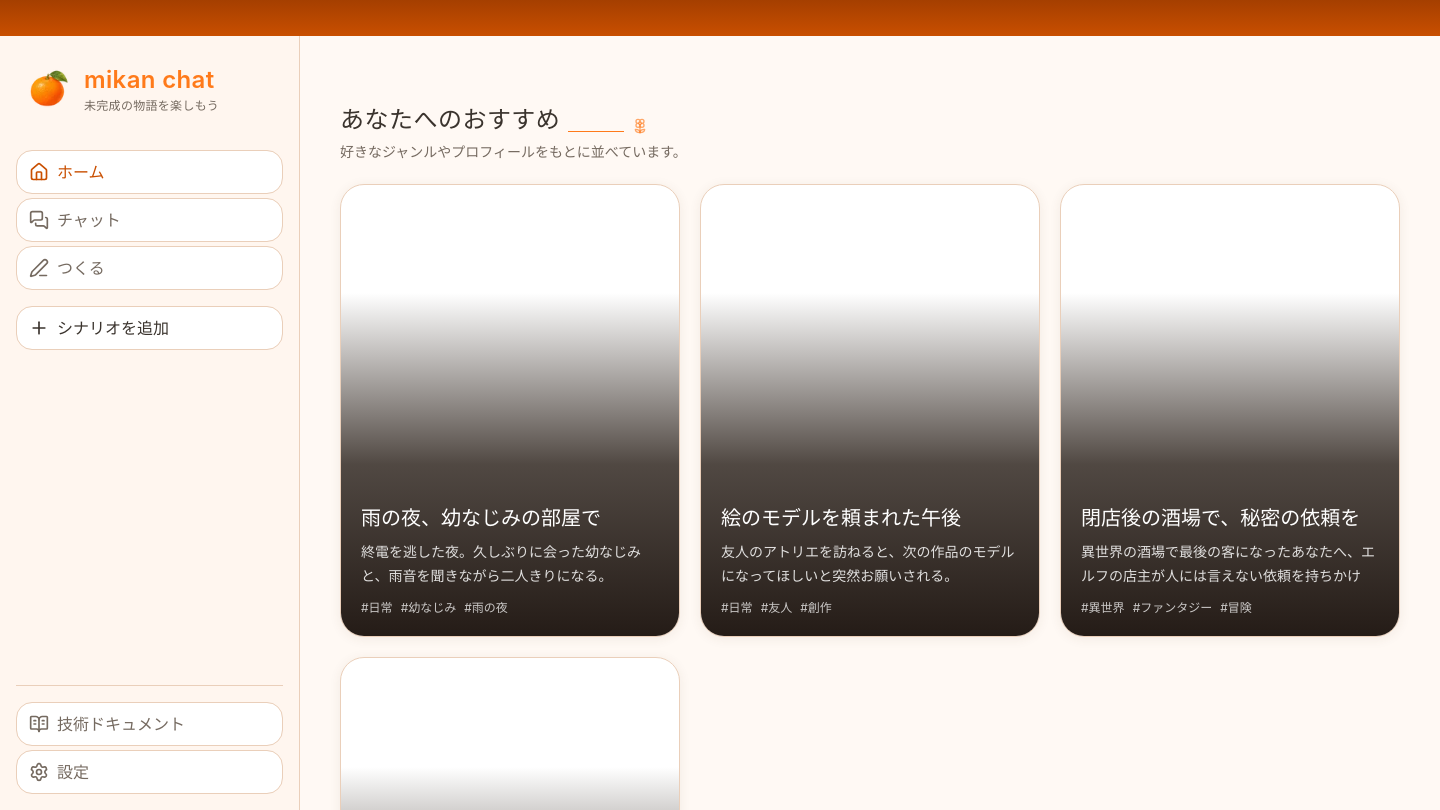
Test: mikan chat UI flow › ホームで物語の詳細を確認してからトーク画面を開ける
Click the button "雨の夜、幼なじみの部屋で" at x=510, y=411, box left=340, top=184, right=680, bottom=637
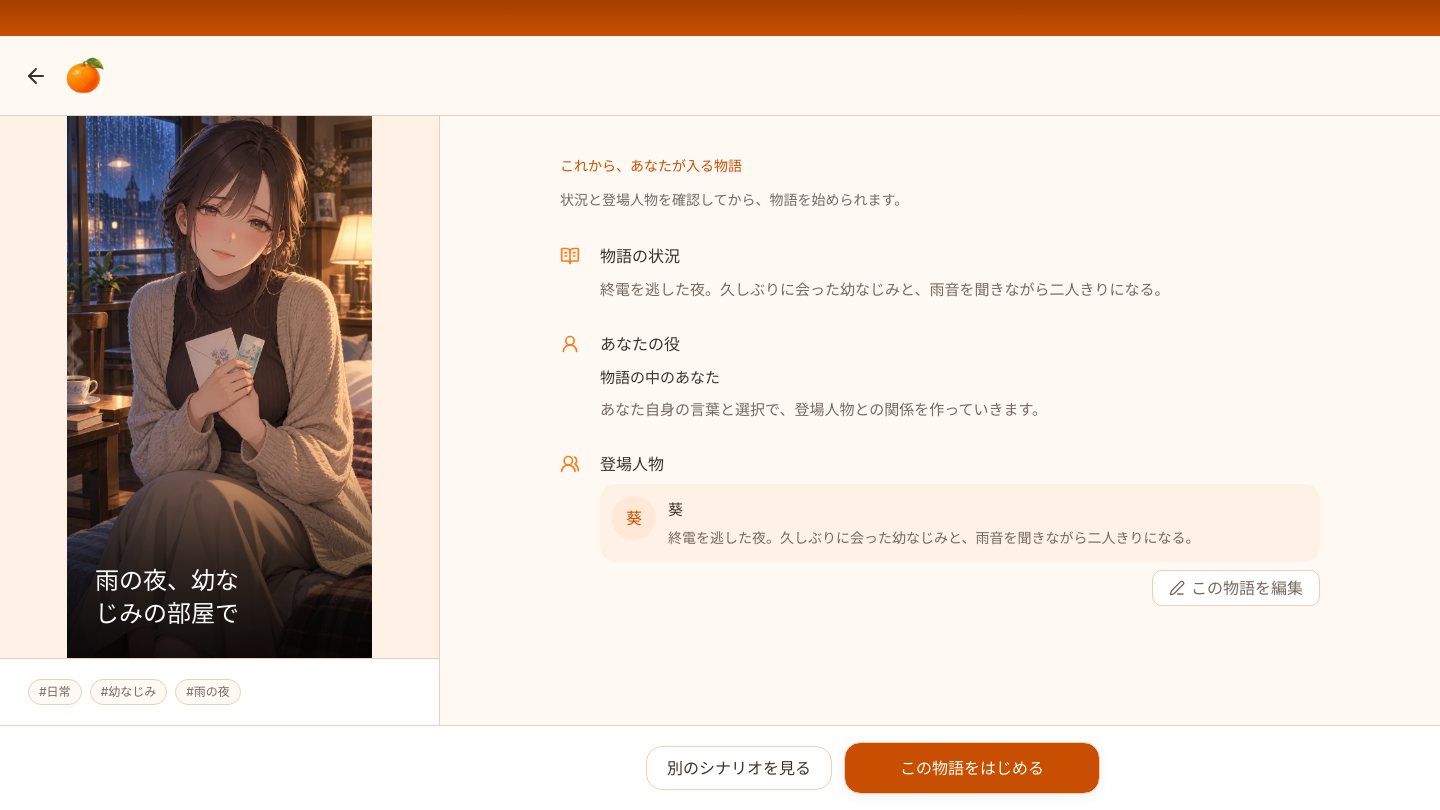
Expected: the element with test id "scenario-preview-title-overlay" reads "雨の夜、幼なじみの部屋で", left=95, top=566, right=239, bottom=628
Expected: the text "物語の中のあなた" is shown, left=600, top=368, right=720, bottom=387
Click the button "この物語をはじめる" at x=972, y=768, box left=844, top=742, right=1100, bottom=794
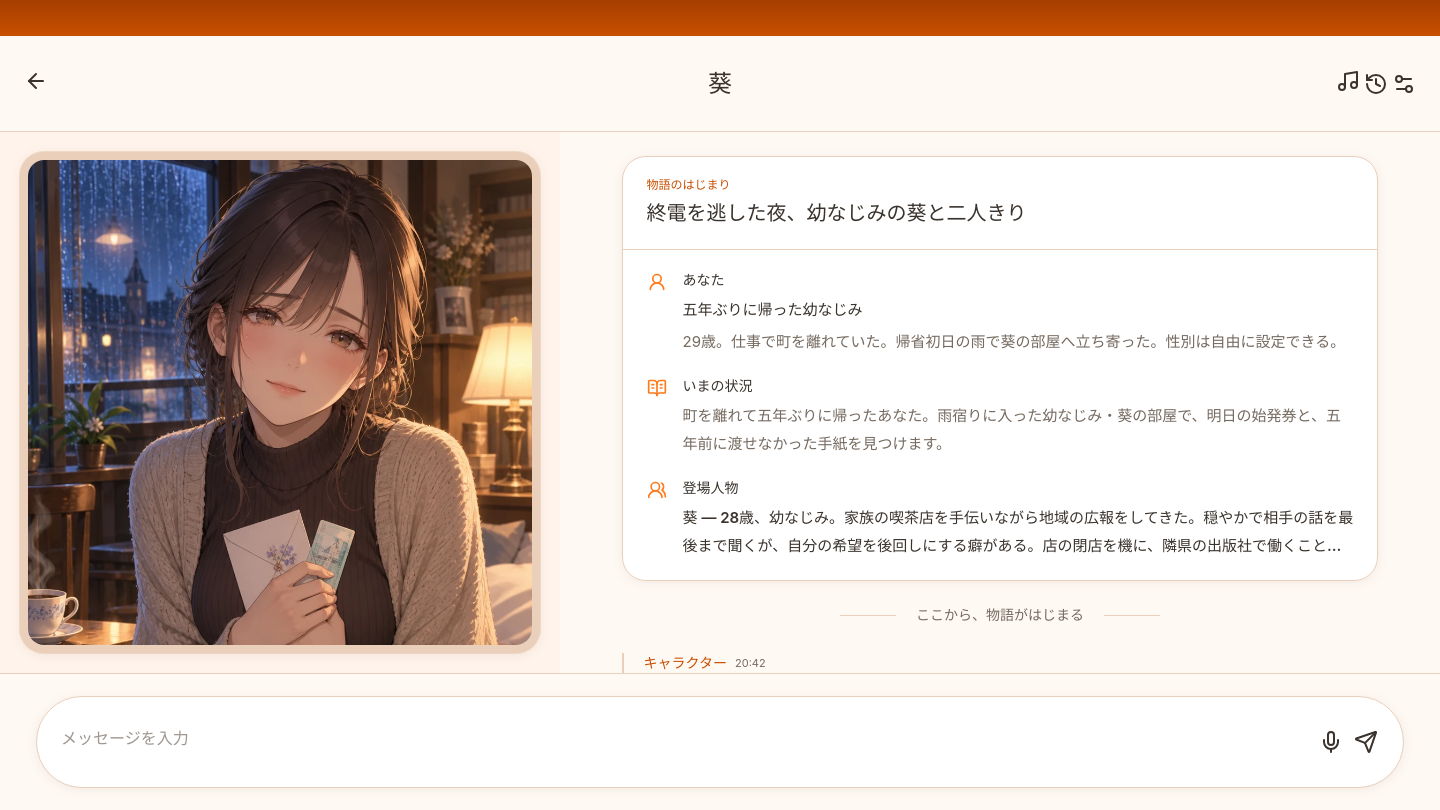
Expected: the element with test id "talk-screen" is shown
Expected: the text box with placeholder "メッセージを入力" is shown, left=61, top=726, right=1307, bottom=758
